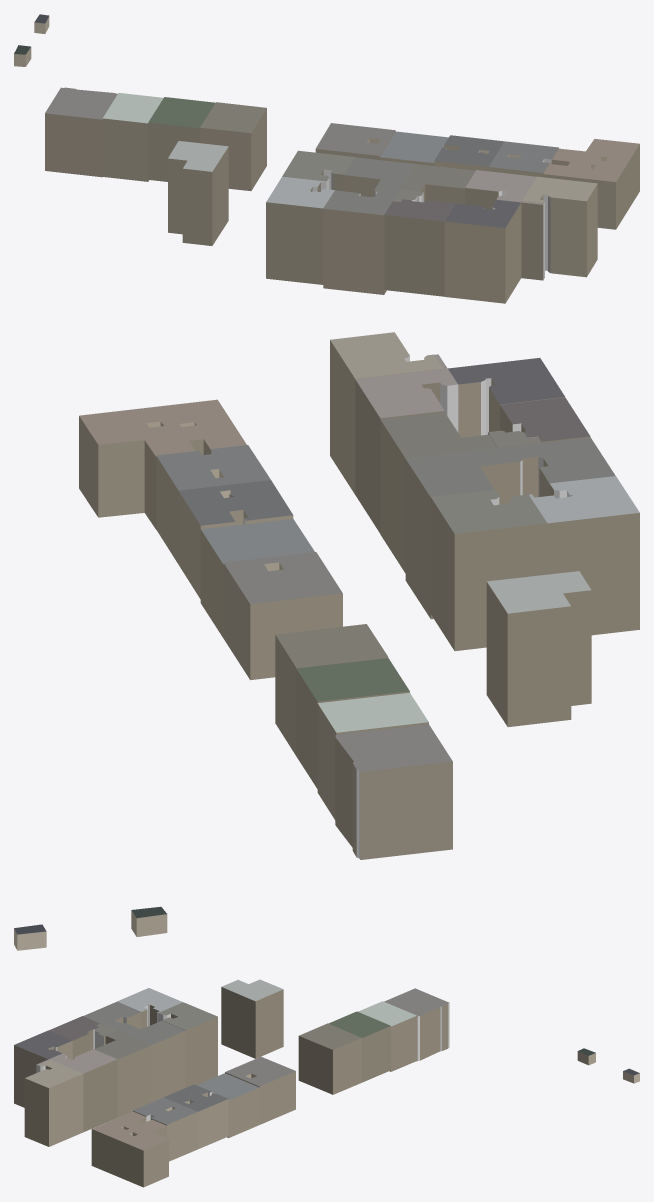
3 renders of one model, top to bottom at view 1: azimuth 30°, elevation 25°; view 2: azimuth 150°, elevation 25°; view 3: azimuth 270°, elevation 25°, orthographic. The views are drawn at different scales.
Parts seen in each view (by area): view 1: tuile; view 2: tuile; view 3: tuile.
Part boxes in pixels (x1,y1,x2,y2): tuile: (14,14,639,303); tuile: (14,332,639,950); tuile: (14,979,639,1187).
Bounding box in the file's own units: 155 × 29.28 × 258.
